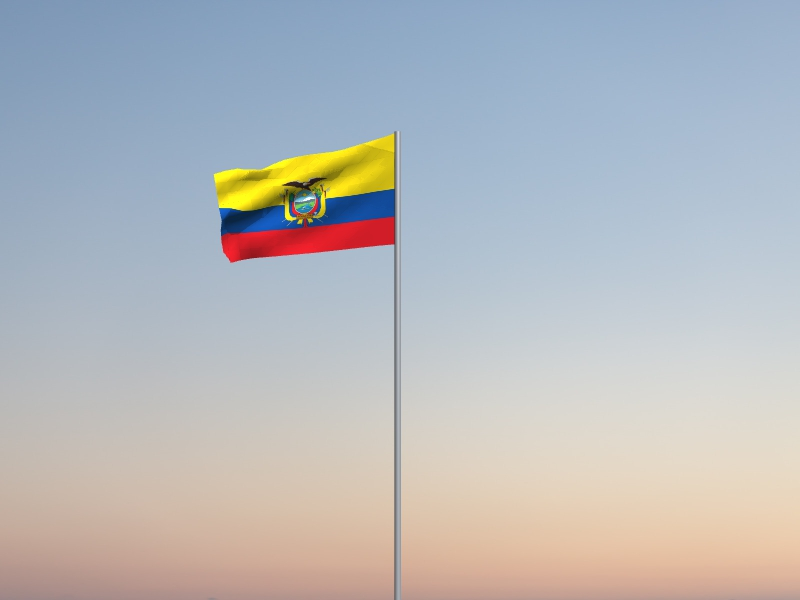ec: (214, 134, 395, 265)
